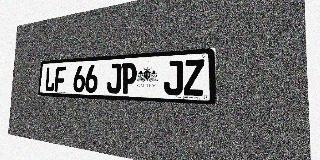6: (85, 65, 98, 93), (73, 65, 86, 92)
F: (54, 66, 66, 92)
J: (164, 60, 183, 95), (106, 63, 122, 94)
L: (45, 67, 56, 92)
P: (121, 62, 137, 94)
Z: (183, 59, 204, 96)
